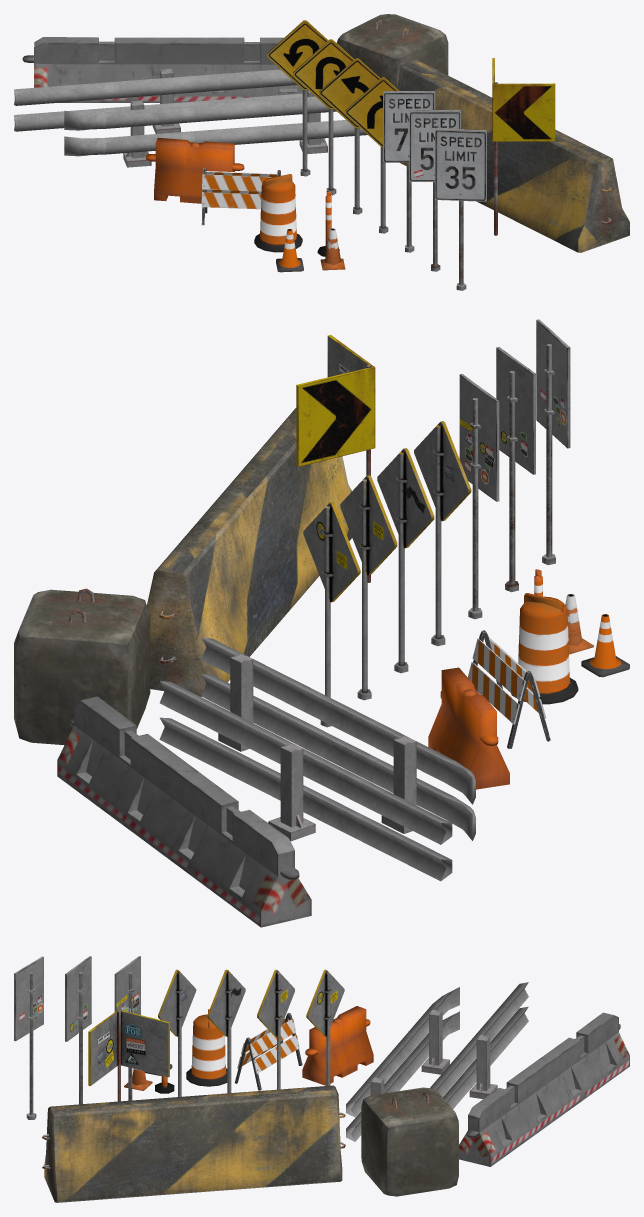
Rendered from highway_stuff_-_low_poly_prop_set.glb.
3 renders of one model, top to bottom at view 1: azimuth 30°, elevation 25°; view 2: azimuth 150°, elevation 25°; view 3: azimuth 270°, elevation 25°, orthographic. The views are drawn at different scales.
Parts seen in each view (by area): view 1: SP_CCS_ConcreteBlock_1, SP_HWS_RoadBarrier_1_SP_HWS_RoadBarrier_1_0, GuardRail_Highway_2_GuardRail_Highway_1-2_0, GuardRail_Highway_1_GuardRail_Highway_1-2_0, SP_CSS_ConcreteBlock_2, DP_HWS_SignSpeedLim_1, DP_HWS_SignTurn_1, DP_HWS_RoadBarrier_1_DP_HWS_RoadBarrier_2_0, DP_HWS_SignSpeedLim_3, DP_HWS_SignSpeedLim_2_DP_HWS_SignSpeedLim_1-3_0, DP_HWS_RoadDrum_1, DP_HWS_RoadBarrier_1_DP_HWS_RoadBarrier_1_0 (+7 smaller); view 2: SP_CCS_ConcreteBlock_1, SP_HWS_RoadBarrier_1_SP_HWS_RoadBarrier_1_0, GuardRail_Highway_1_GuardRail_Highway_1-2_0, SP_CSS_ConcreteBlock_2, GuardRail_Highway_2_GuardRail_Highway_1-2_0, DP_HWS_SignTurn_1, DP_HWS_RoadBarrier_1_DP_HWS_RoadBarrier_2_0, DP_HWS_SignSpeedLim_3, DP_HWS_SignSpeedLim_2_DP_HWS_SignSpeedLim_1-3_0, DP_HWS_RoadDrum_1, DP_HWS_SignSpeedLim_1, DP_HWS_SignDangerTurn_1 (+5 smaller); view 3: SP_CCS_ConcreteBlock_1, SP_HWS_RoadBarrier_1_SP_HWS_RoadBarrier_1_0, SP_CSS_ConcreteBlock_2, GuardRail_Highway_2_GuardRail_Highway_1-2_0, DP_HWS_SignTurn_1, GuardRail_Highway_1_GuardRail_Highway_1-2_0, DP_HWS_RoadBarrier_1_DP_HWS_RoadBarrier_2_0, DP_HWS_SignSpeedLim_1, DP_HWS_RoadDrum_1, DP_HWS_SignSpeedLim_2_DP_HWS_SignSpeedLim_1-3_0, DP_HWS_RoadBarrier_1_DP_HWS_RoadBarrier_1_0, DP_HWS_SignDangerTurn_1 (+4 smaller).
Boxes of the visible parts, x1,y1,x2,y2 form: SP_CCS_ConcreteBlock_1: (397,59,629,252); SP_HWS_RoadBarrier_1_SP_HWS_RoadBarrier_1_0: (22,37,302,102); GuardRail_Highway_2_GuardRail_Highway_1-2_0: (64,89,367,167); GuardRail_Highway_1_GuardRail_Highway_1-2_0: (14,68,302,133); SP_CSS_ConcreteBlock_2: (337,14,448,88); DP_HWS_SignSpeedLim_1: (435,128,486,290); DP_HWS_SignTurn_1: (492,58,555,235); DP_HWS_RoadBarrier_1_DP_HWS_RoadBarrier_2_0: (145,137,244,203); DP_HWS_SignSpeedLim_3: (383,91,435,252); DP_HWS_SignSpeedLim_2_DP_HWS_SignSpeedLim_1-3_0: (409,110,461,271); DP_HWS_RoadDrum_1: (254,174,302,252); DP_HWS_RoadBarrier_1_DP_HWS_RoadBarrier_1_0: (201,167,281,225); SP_CCS_ConcreteBlock_1: (147,408,351,696); SP_HWS_RoadBarrier_1_SP_HWS_RoadBarrier_1_0: (57,696,311,927); GuardRail_Highway_1_GuardRail_Highway_1-2_0: (159,681,452,881); SP_CSS_ConcreteBlock_2: (14,588,150,745); GuardRail_Highway_2_GuardRail_Highway_1-2_0: (201,638,475,840); DP_HWS_SignTurn_1: (296,335,375,582); DP_HWS_RoadBarrier_1_DP_HWS_RoadBarrier_2_0: (428,667,509,789); DP_HWS_SignSpeedLim_3: (459,374,499,619); DP_HWS_SignSpeedLim_2_DP_HWS_SignSpeedLim_1-3_0: (496,347,535,592); DP_HWS_RoadDrum_1: (511,593,578,704); DP_HWS_SignSpeedLim_1: (536,319,570,564); DP_HWS_SignDangerTurn_1: (377,448,434,673); SP_CCS_ConcreteBlock_1: (42,1085,345,1202); SP_HWS_RoadBarrier_1_SP_HWS_RoadBarrier_1_0: (459,1012,629,1166); SP_CSS_ConcreteBlock_2: (361,1087,458,1196); GuardRail_Highway_2_GuardRail_Highway_1-2_0: (346,987,459,1141); DP_HWS_SignTurn_1: (88,1009,169,1101); GuardRail_Highway_1_GuardRail_Highway_1-2_0: (430,982,528,1108); DP_HWS_RoadBarrier_1_DP_HWS_RoadBarrier_2_0: (302,1006,373,1085); DP_HWS_SignSpeedLim_1: (14,956,43,1119); DP_HWS_RoadDrum_1: (186,1009,227,1086); DP_HWS_SignSpeedLim_2_DP_HWS_SignSpeedLim_1-3_0: (65,956,91,1104); DP_HWS_RoadBarrier_1_DP_HWS_RoadBarrier_1_0: (234,1013,302,1090); DP_HWS_SignDangerTurn_1: (207,969,245,1093).
Bounding box in the file's own units: 4.18 × 1.75 × 6.33.
19 materials, 19 textured.
